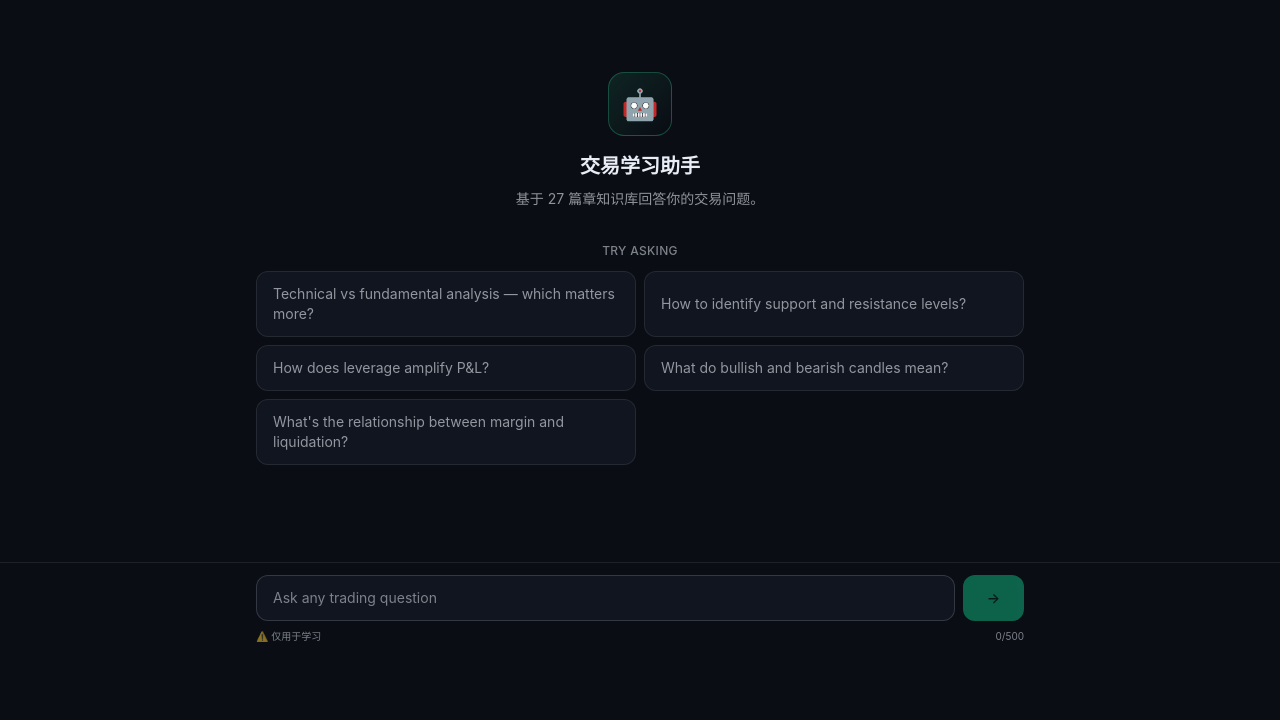
AiChat 回答操作与对话管理 › 英文回答操作使用英文快捷标签，并发送英文请求
This screenshot has width=1280, height=720.
Click the button "Technical vs fundamental analysis — which matters more?" at (446, 304), box [256,271,636,337]
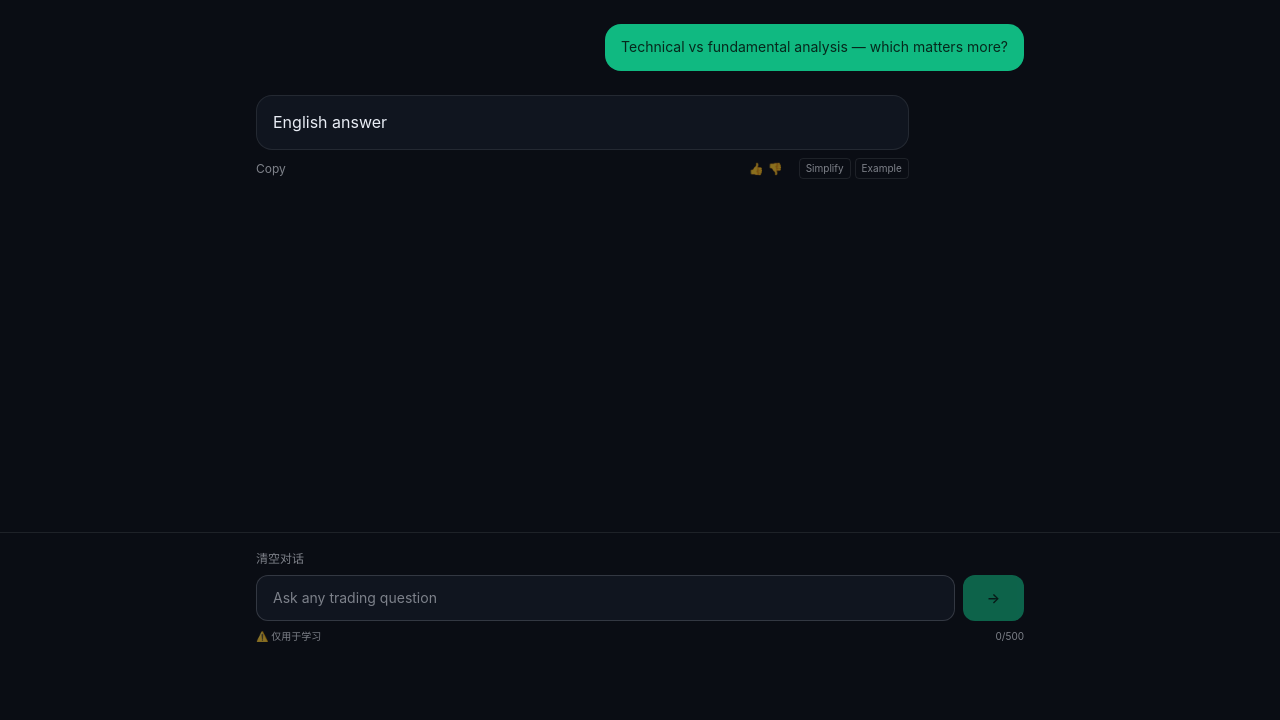
Check: the text "English answer" is shown, box [273,112,387,132]
Click the button "Simplify" at (825, 169), box [799,158,851,179]
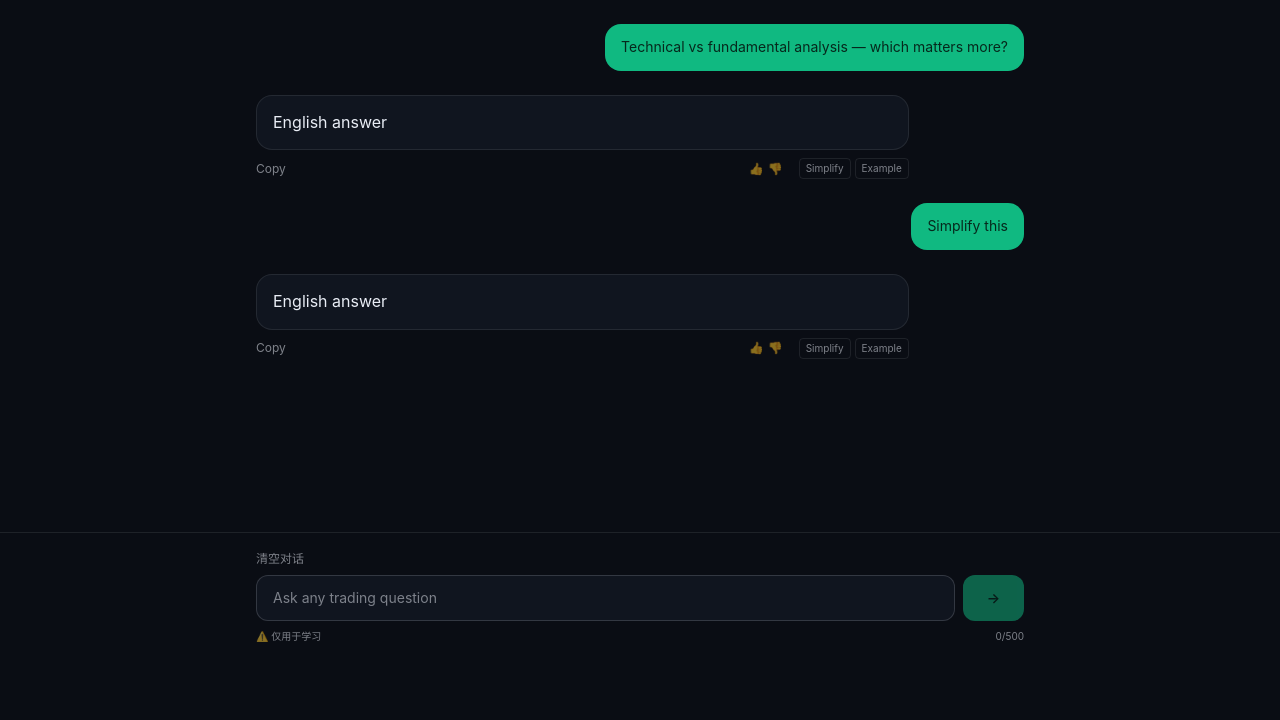
Check: the text "Simplify this" is shown, box [927,215,1008,238]
